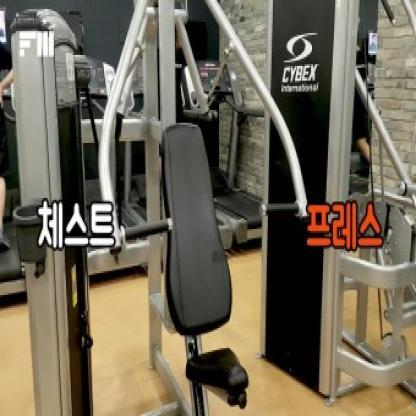Chest Press machine: (9, 0, 315, 416)
